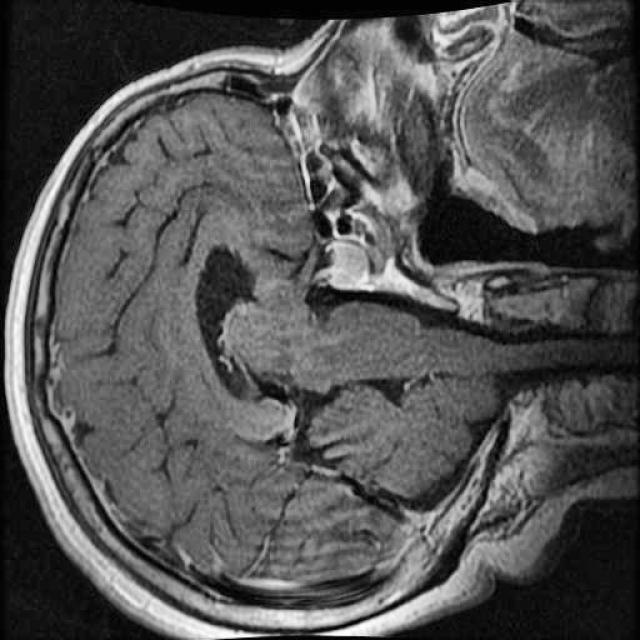Tumor: (321, 229, 376, 299)
